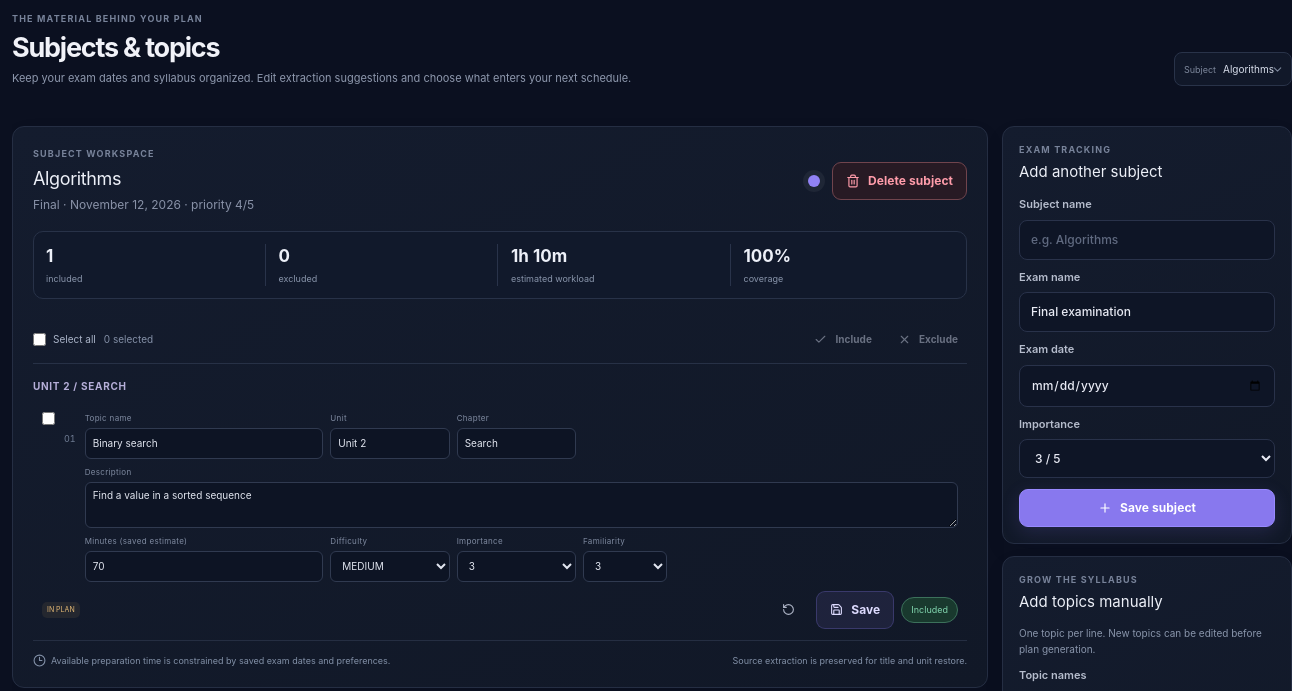
topic editor › requires confirmation and refreshes after deleting a subject with an impact summary
The image size is (1292, 691).
Expected: the field showing "Binary search" is shown, [85,428,323,459]
Click the button "Delete subject": click(900, 181) [832,162,967,200]
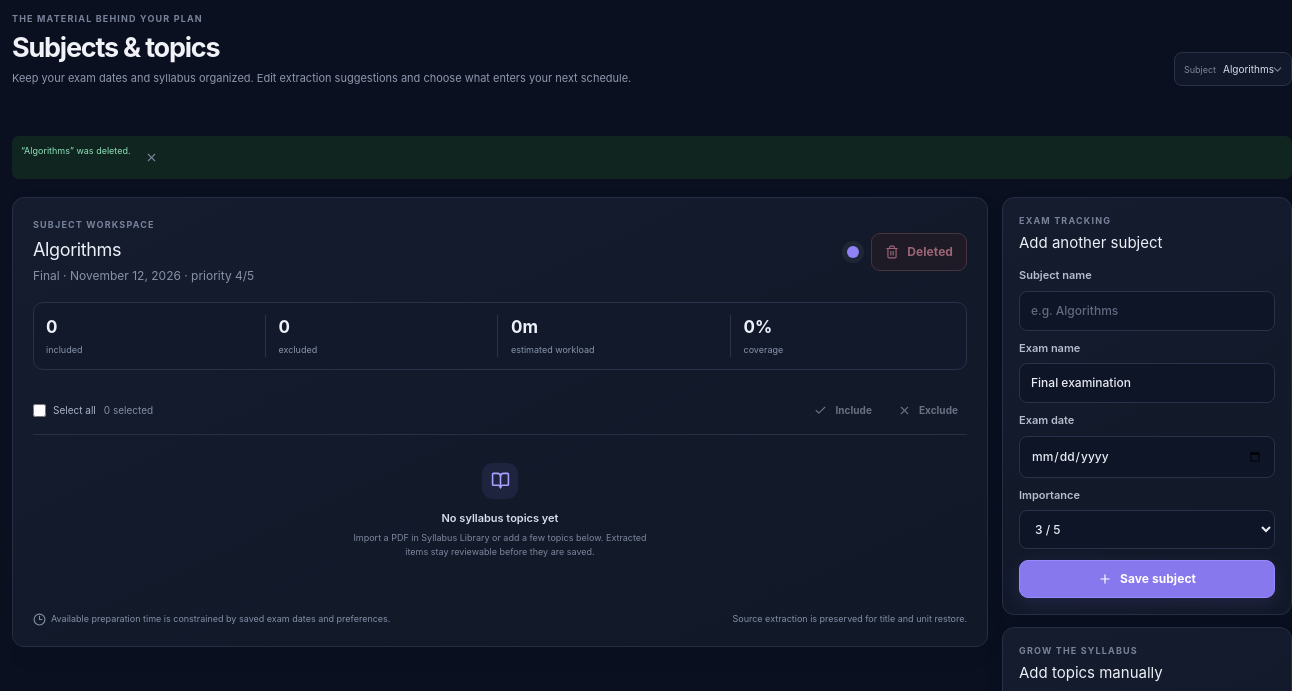
Expected: the message shows "was deleted", [21,145,130,156]
